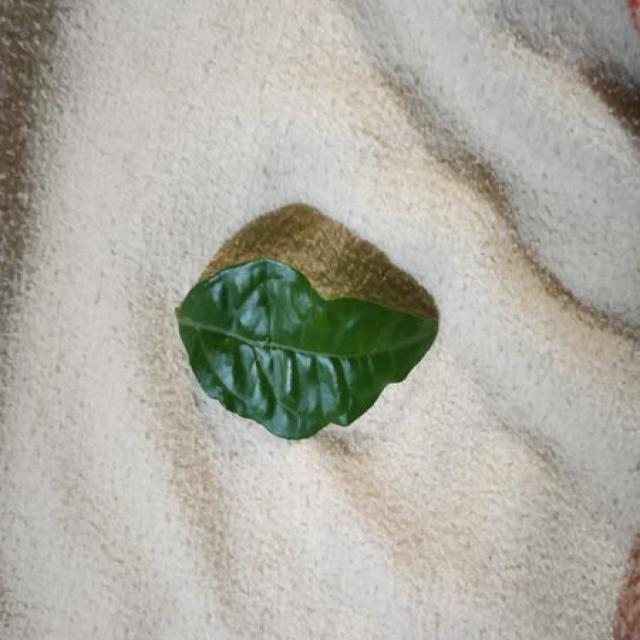Jasmine: (177, 204, 438, 438)
